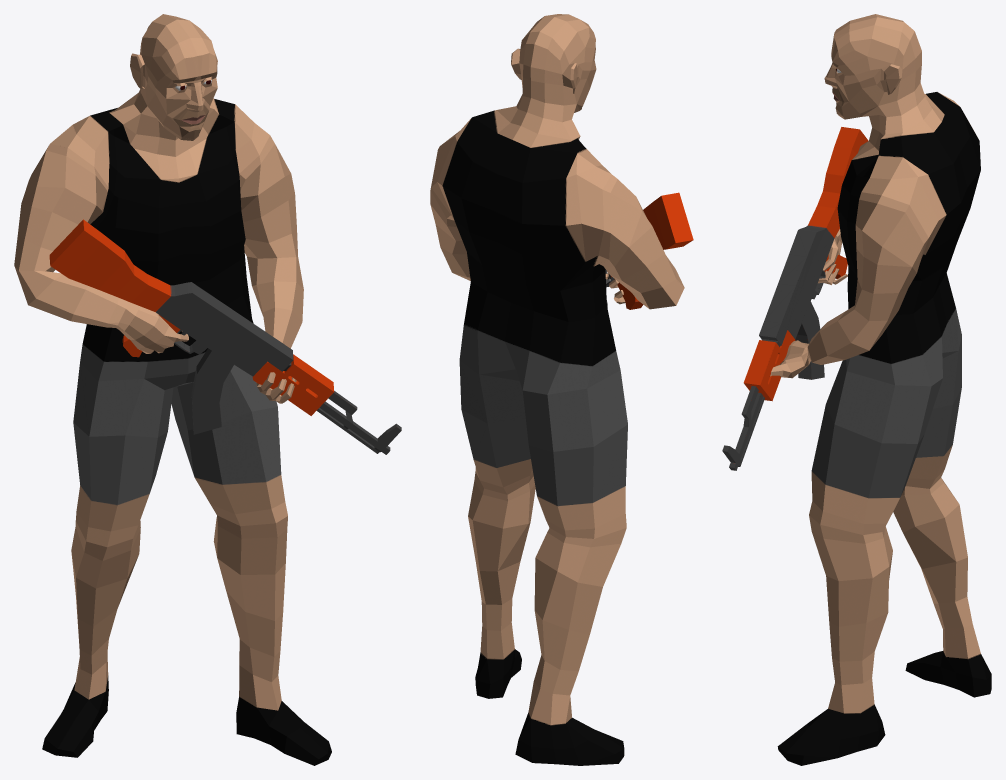
The model's file is PlayerIdle(40).obj.
3 renders of one model, left to right at view 1: azimuth 30°, elevation 25°; view 2: azimuth 150°, elevation 25°; view 3: azimuth 270°, elevation 25°, orthographic. The views are drawn at different scales.
Visible parts, largest first — view 1: Plane002, Object001; view 2: Plane002, Object001; view 3: Plane002, Object001.
Boxes of the visible parts, <box> form: Plane002: <box>14,14,331,765</box>; Object001: <box>49,219,401,454</box>; Plane002: <box>430,14,684,765</box>; Object001: <box>605,192,693,309</box>; Plane002: <box>770,14,991,765</box>; Object001: <box>722,127,868,470</box>.
Bounding box in the file's own units: 746 × 1806 × 634.
